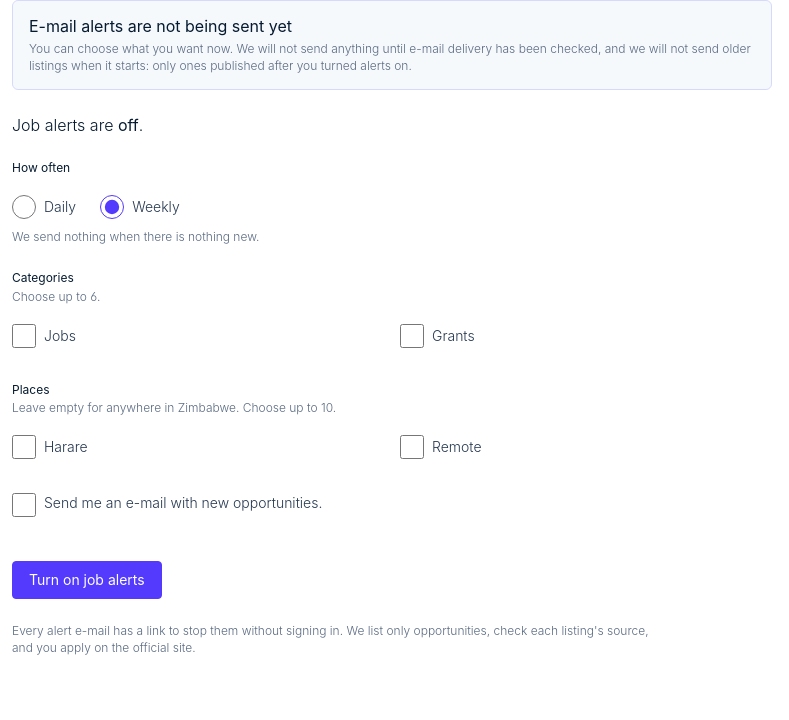
alert form › shows the server's reasons when consent or a choice is missing
Step 1. Click the button "Turn on job alerts" → click(87, 580), box [12,561,162,599]
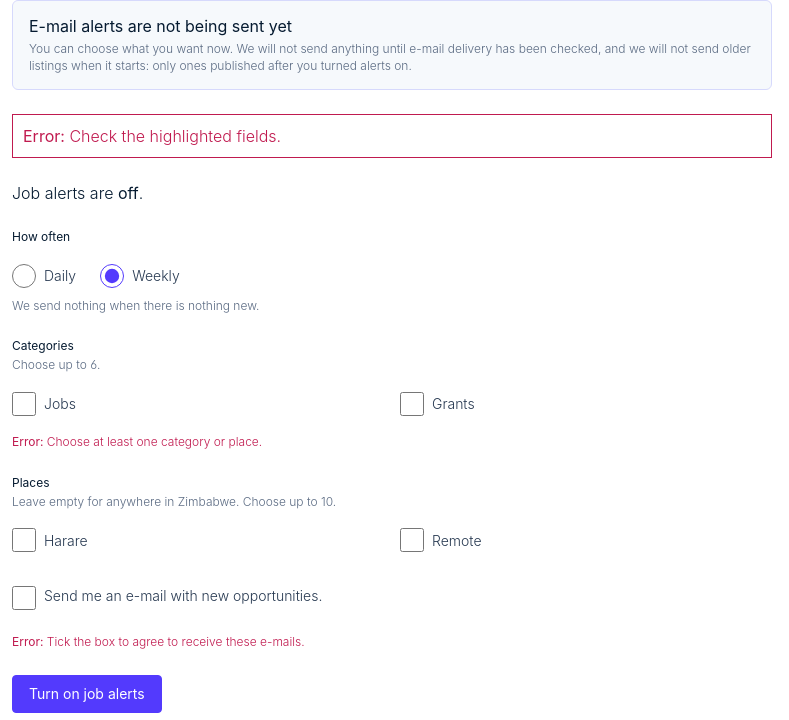
Expected: the text "Error: Tick the box to agree to receive these e-mails." is shown, [12,634,305,649]
Expected: the text "Error: Choose at least one category or place." is shown, [12,434,262,449]
